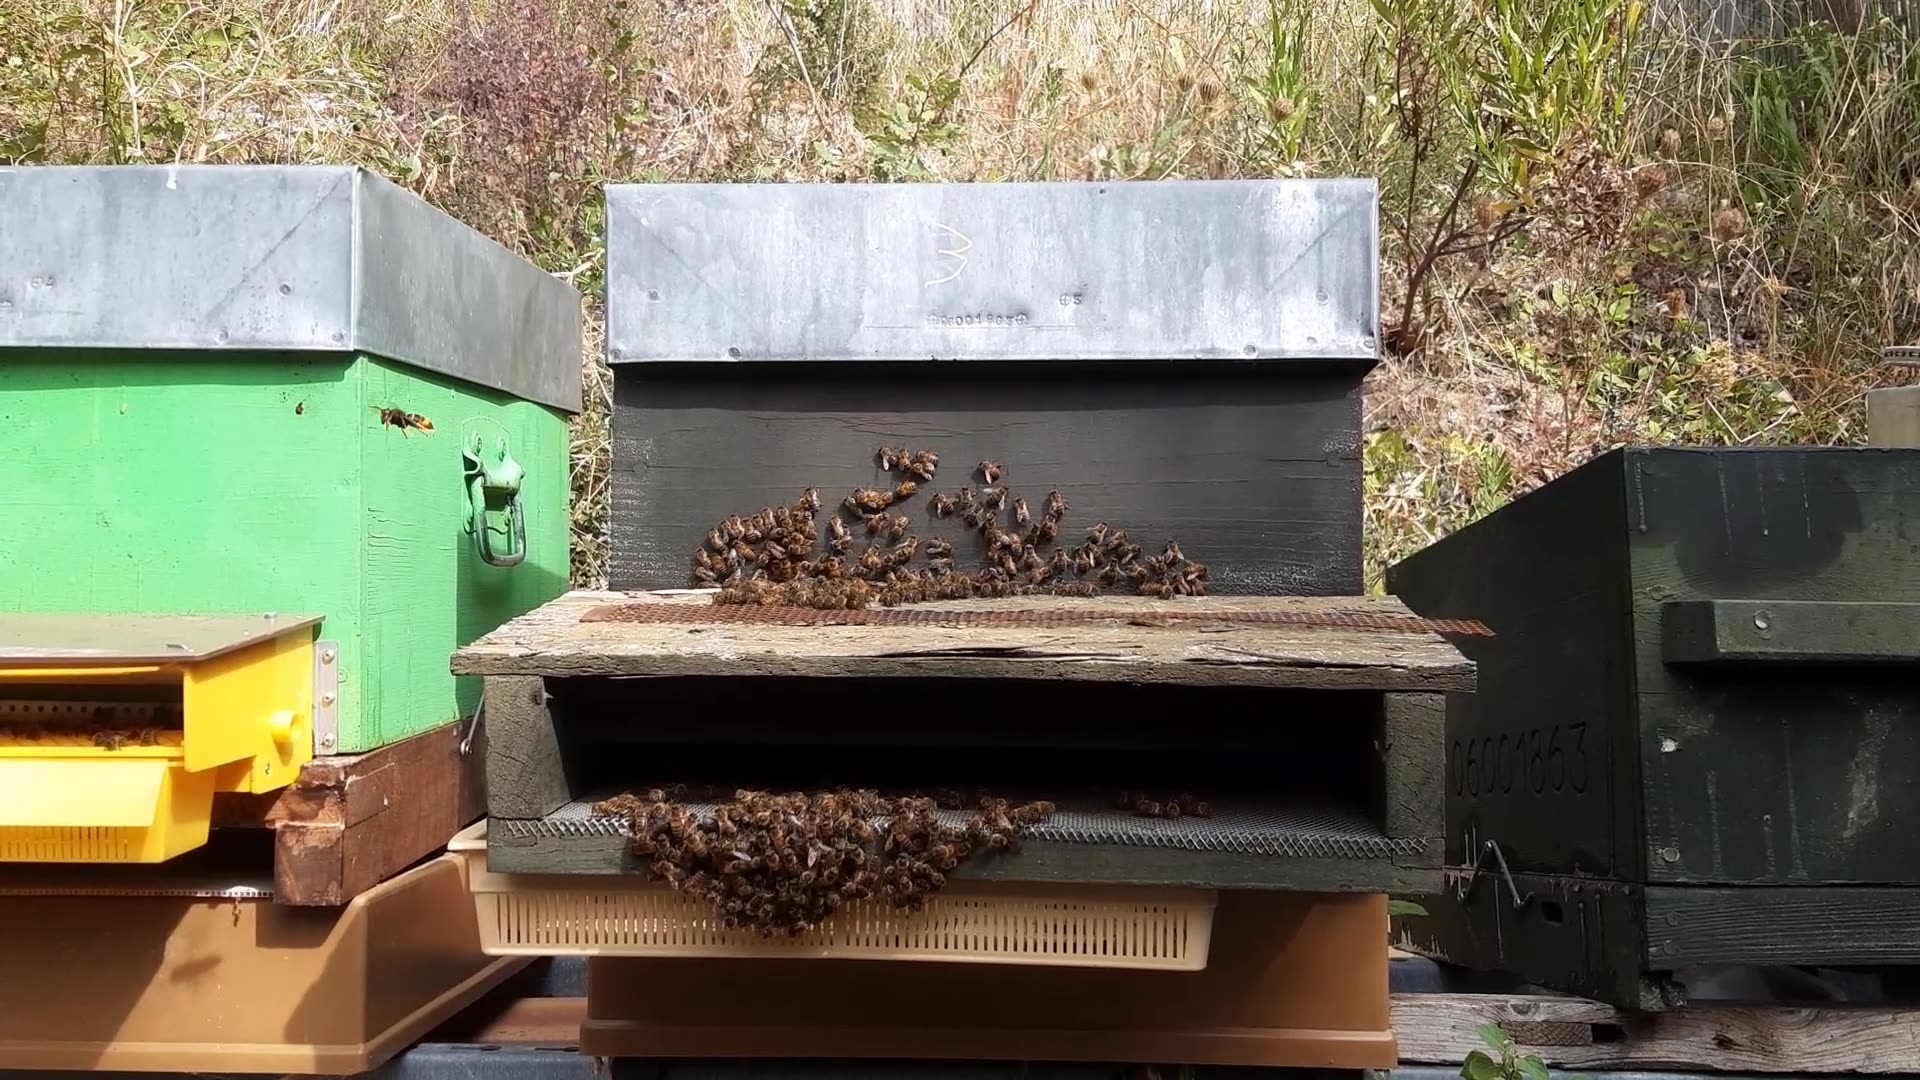bee: (600, 796, 686, 856), (837, 531, 915, 589), (952, 796, 1034, 851), (1364, 306, 1425, 371), (733, 789, 808, 840), (960, 527, 1022, 589), (1105, 545, 1178, 591), (728, 520, 796, 568), (1025, 520, 1087, 570), (877, 460, 938, 509), (960, 467, 1007, 513), (770, 495, 825, 530)
hornet: (368, 397, 426, 444)
